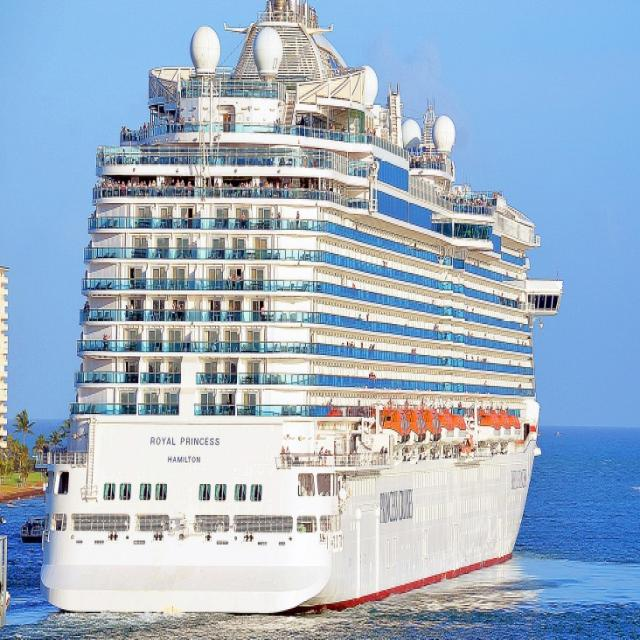cruises: (35, 1, 569, 629)
